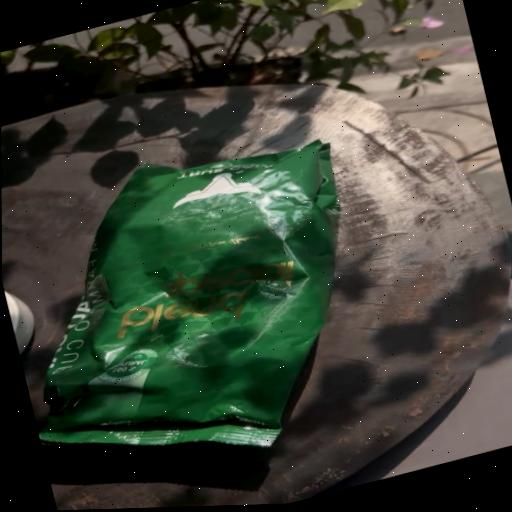cafe_xay: (39, 140, 339, 447)
